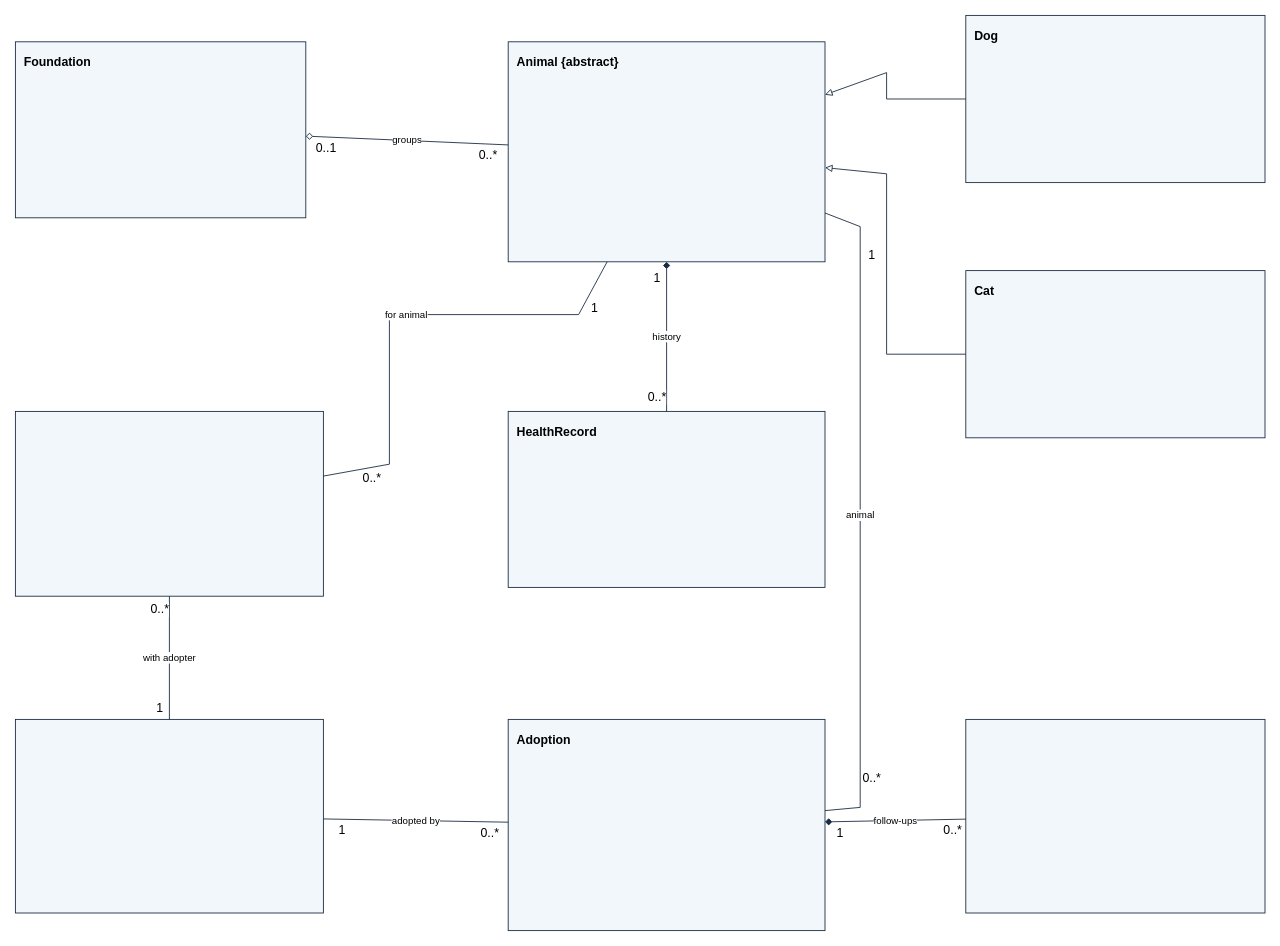
Image size: 1280x946. Some labels were removed from this diagram. The shapes that lost their labels are listed below. From the top down, each one's centre as x and y in pixels, then its label:
point 169,503: Interview
point 169,816: Adopter
point 1115,816: FollowUp
